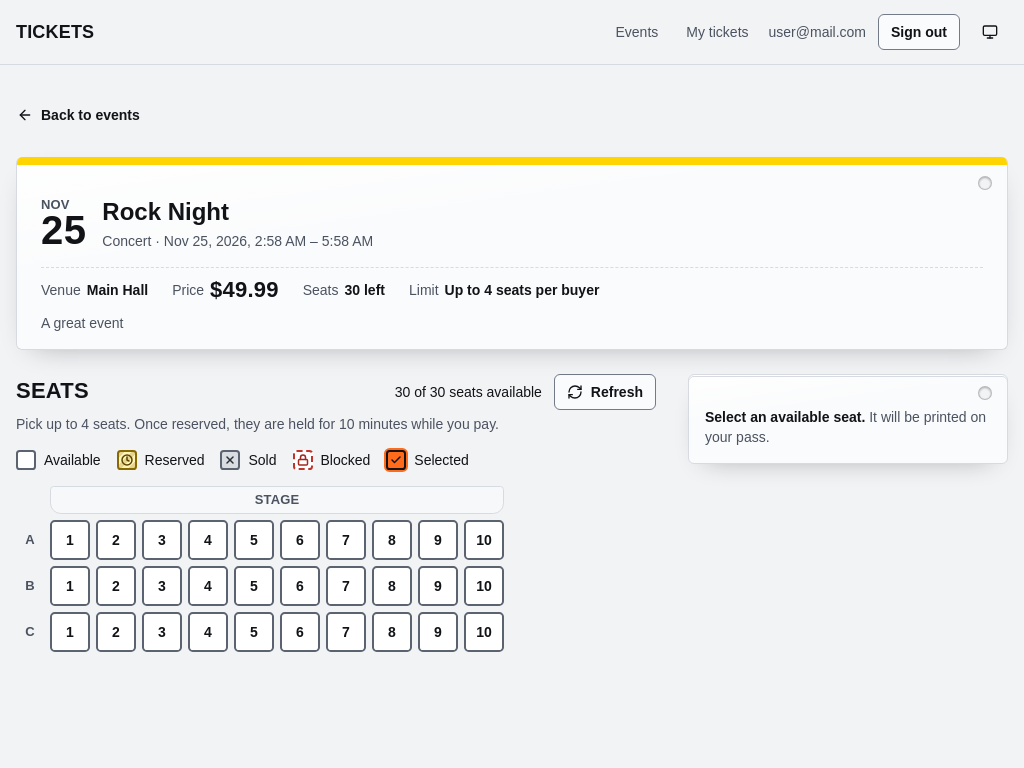
Test: reserving seats › tells the user when the event no longer accepts reservations
What coordinates should you click on to do the following:
click the button named "Seat C7, Available"
I would click on:
 (346, 632)
Its box is [326,612,366,652].
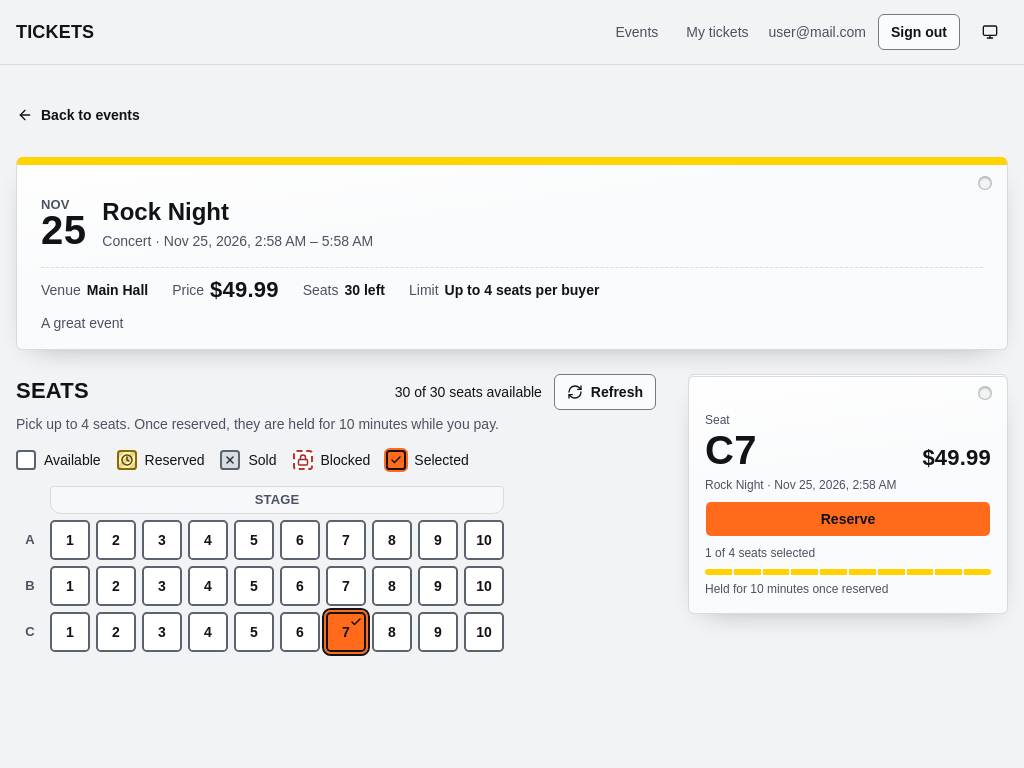
What coordinates should you click on to do the following:
click the button "Reserve"
I would click on:
 (848, 519)
Its box is [705,501,991,537].
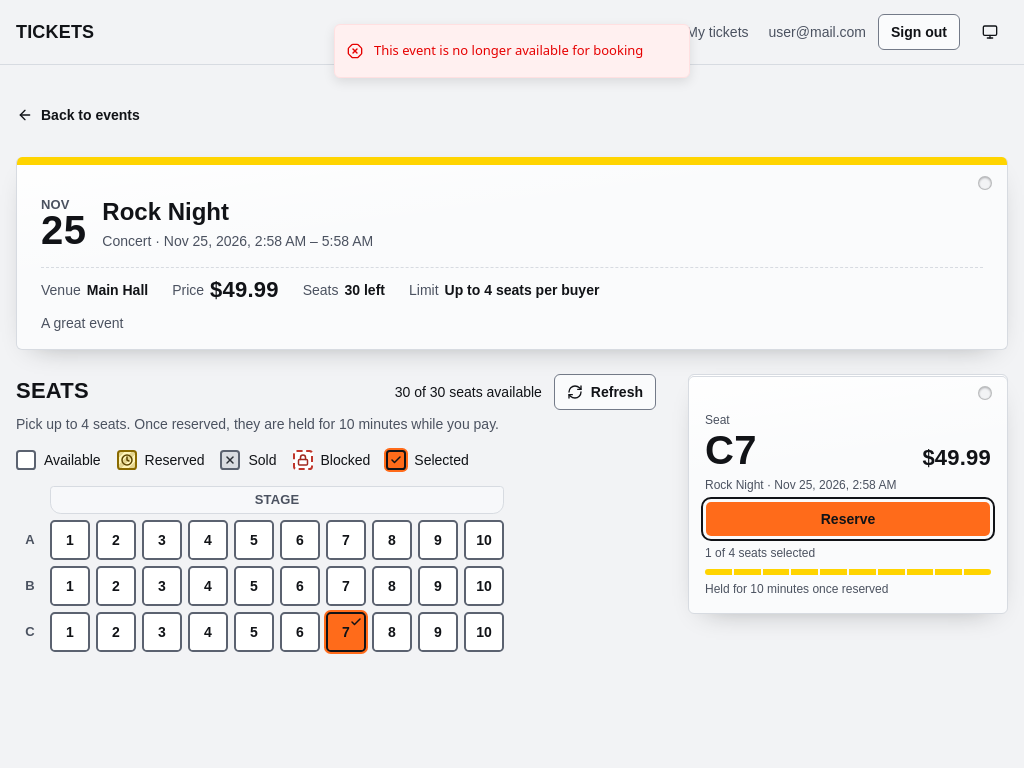
Expected: the text "This event is no longer available for booking" is shown, [374,41,643,60]
